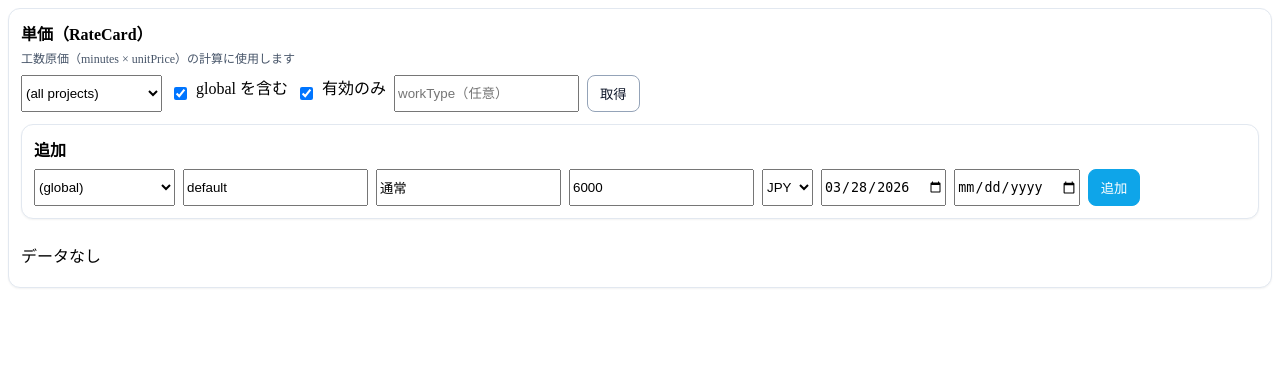
RateCardSettingsCard › creates a rate card and reloads the list
Select "PRJ-1 / Project One" in the dropdown named "案件": (104, 188) left=34, top=169, right=175, bottom=206
Replace the text in the field named "role" with "architect": (276, 188) left=183, top=169, right=368, bottom=206
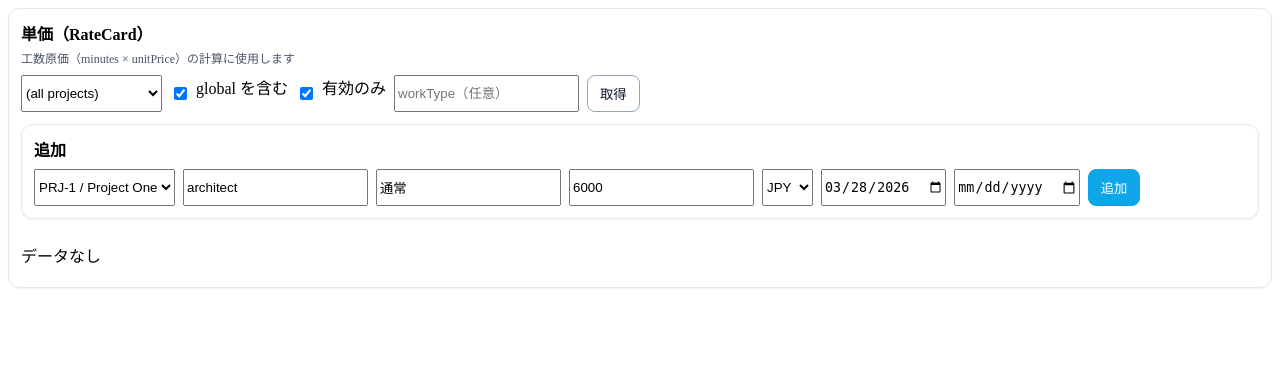
Replace the text in the field named "workType" with "設計": (468, 188) left=376, top=169, right=561, bottom=206
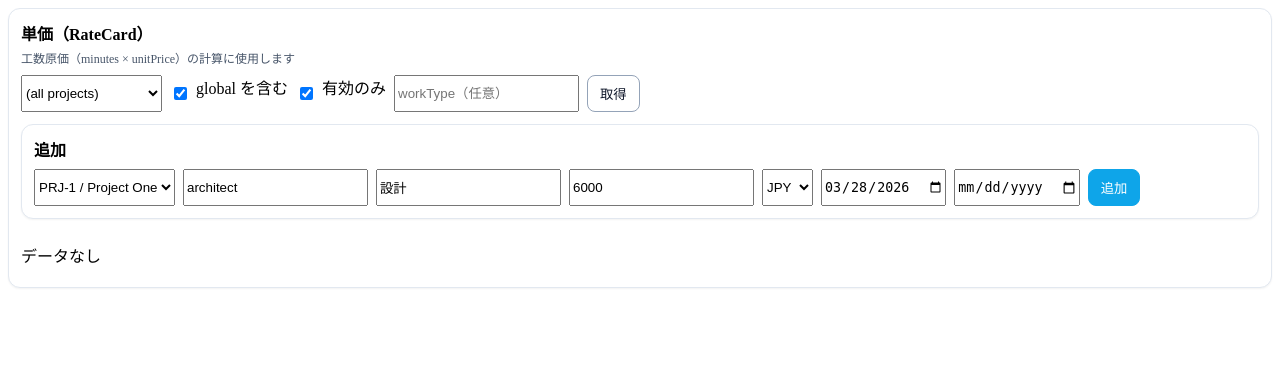
Replace the text in the number field named "unitPrice" with "7500": (662, 188) left=569, top=169, right=754, bottom=206
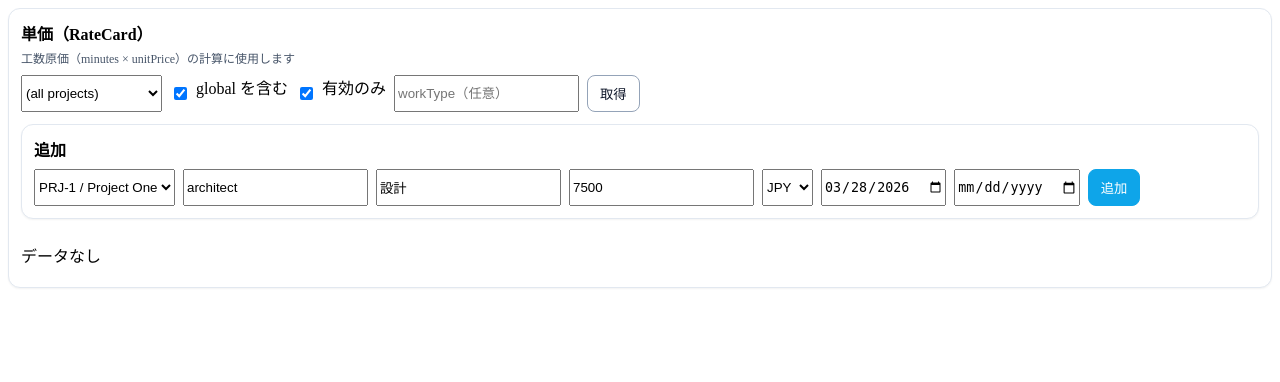
Select "USD" in the dropdown named "currency": (788, 188) left=762, top=169, right=813, bottom=206
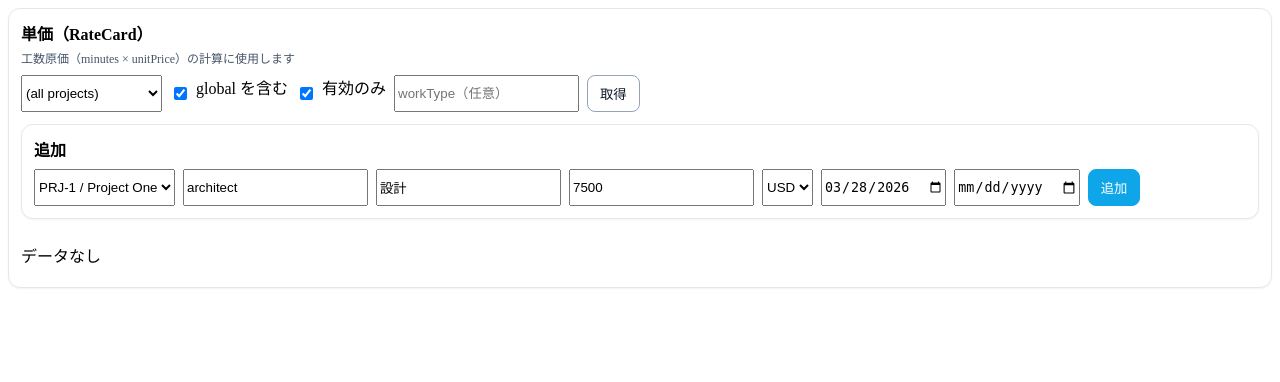
In the date field named "validTo": (1017, 188) left=954, top=169, right=1080, bottom=206, type "2026-12-31"
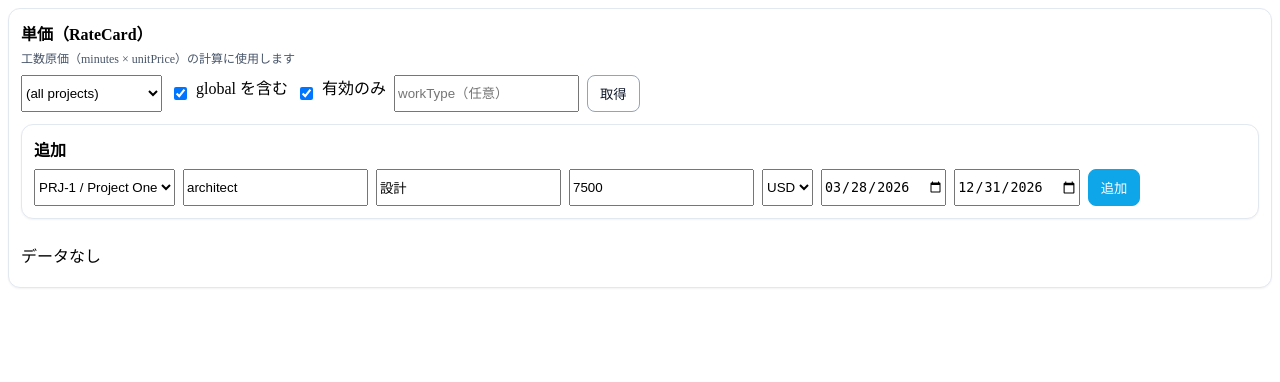
Click the button "追加": (1114, 188) left=1088, top=169, right=1140, bottom=206
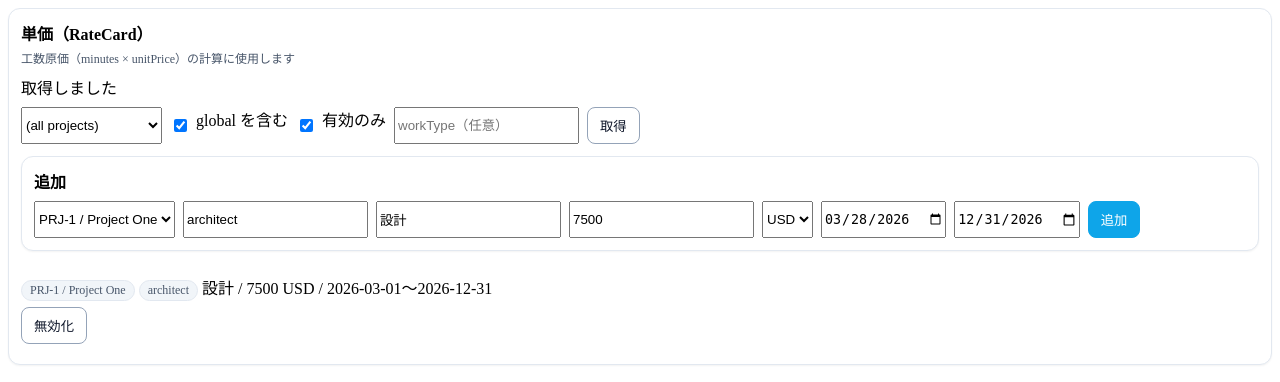
Expected: the text "取得しました" is shown, left=21, top=80, right=117, bottom=97
Expected: the text "architect" is shown, left=139, top=280, right=198, bottom=301
